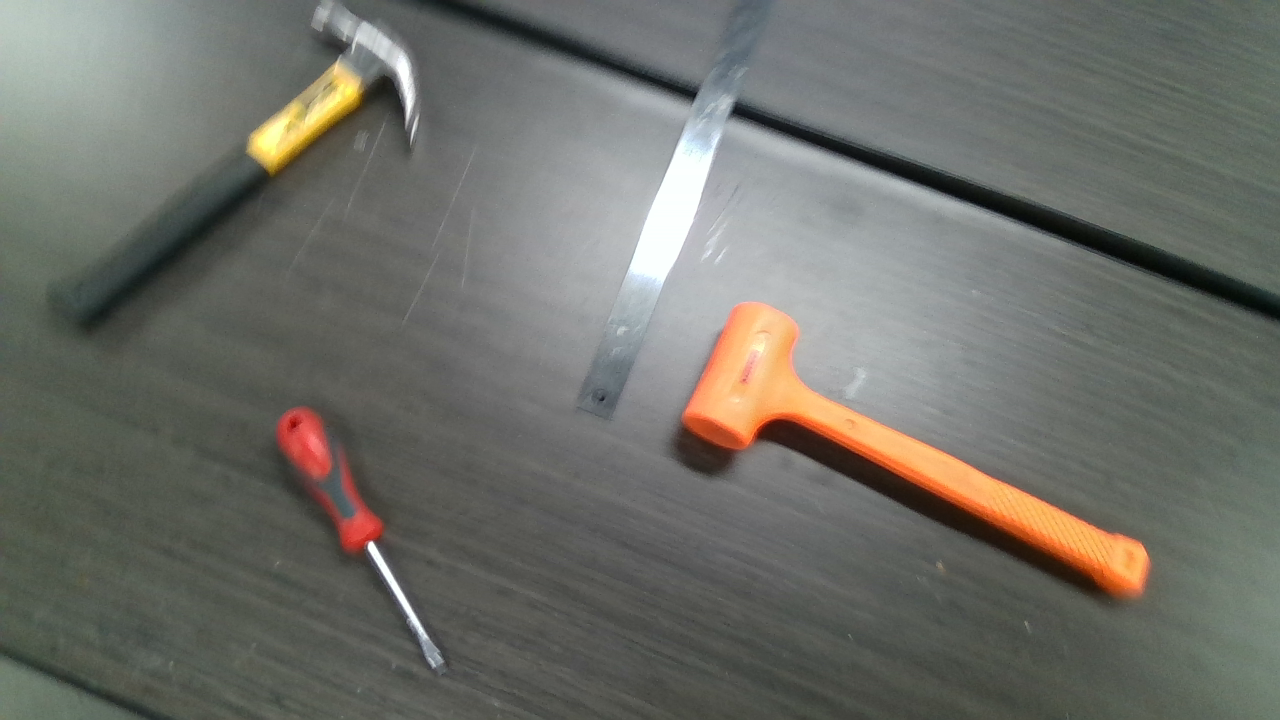Orange Hammer: (683, 300, 1142, 598)
